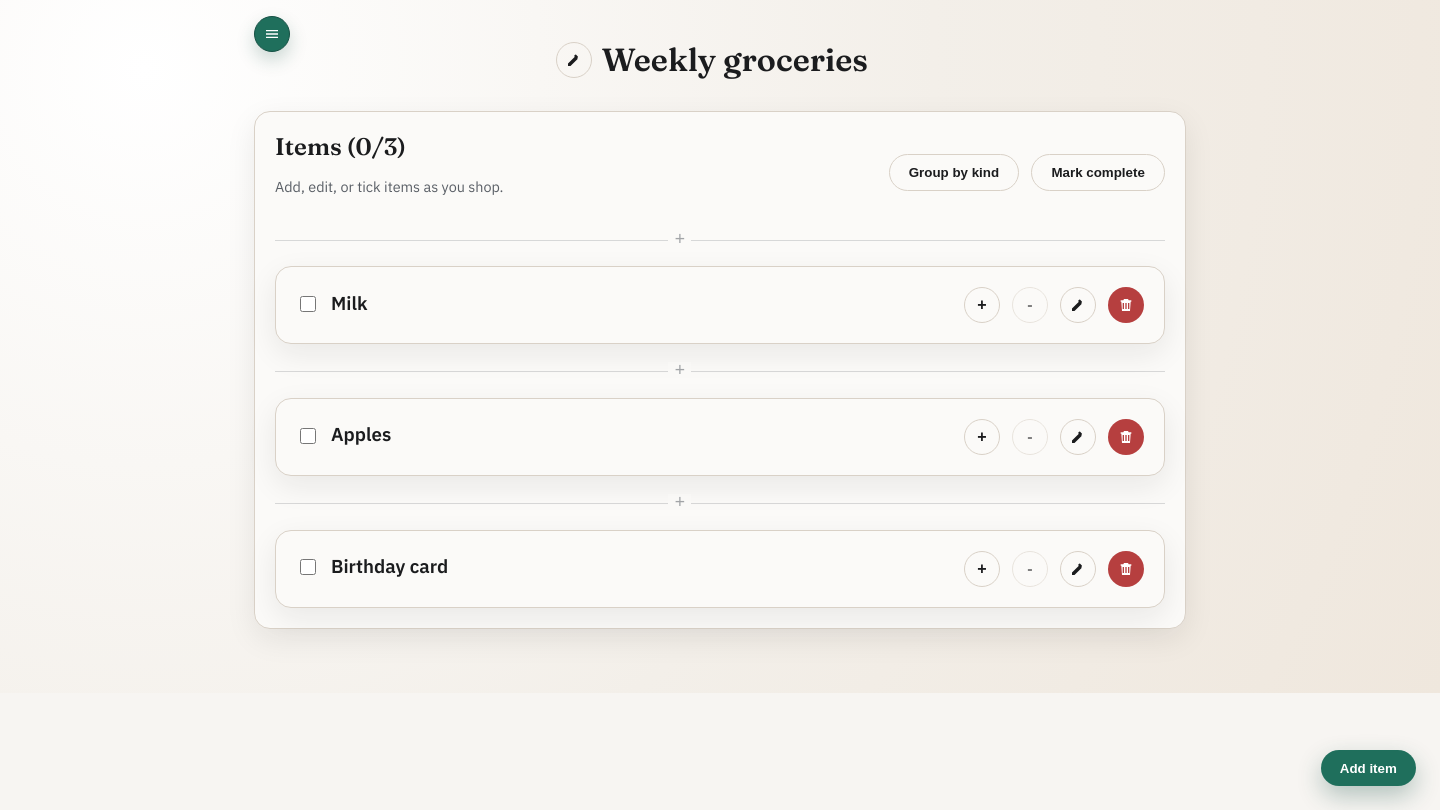
Scenario: Group by kind on a list: overlapping events › closes an open unmatched dialog when the shopper switches lists
Click the button "Group by kind" at (954, 172), box [889,154,1019,191]
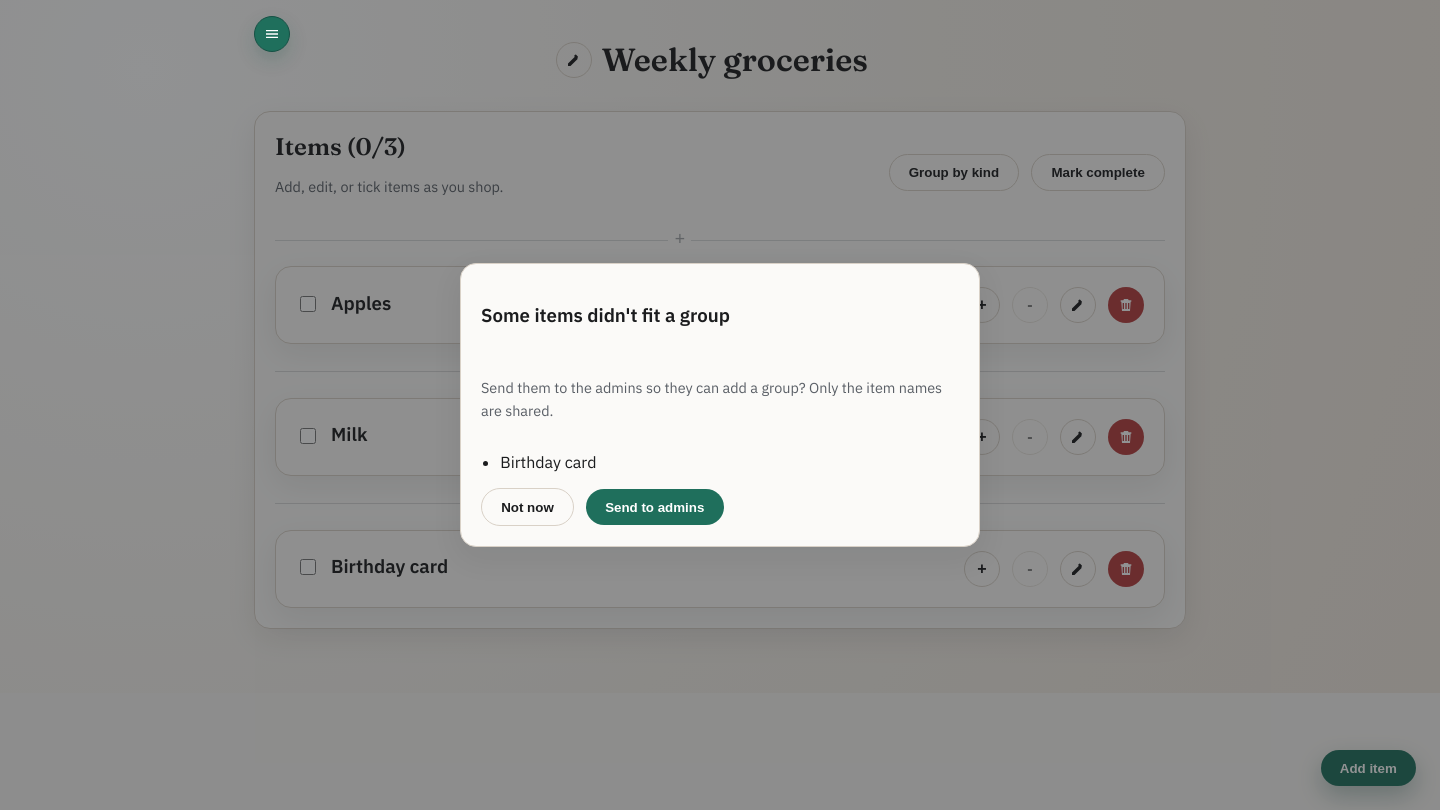
Now the dialog is shown, box [460,263,980,547]
